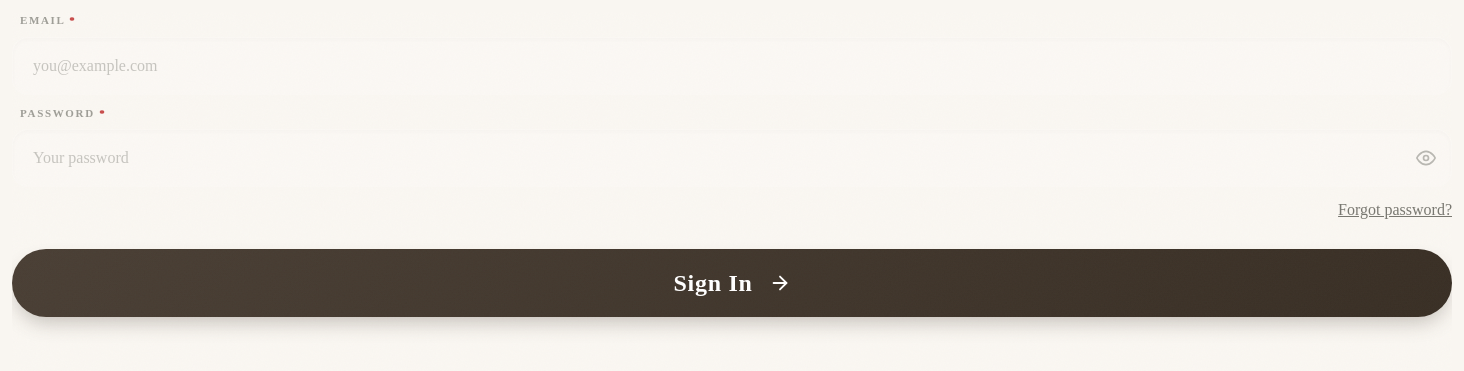
Test: LoginForm › shows "Invalid email or password." inline and clears password on Invalid credentials
Type "jane@example.com" into the field with placeholder "you@example.com". click: [732, 66]
box: [12,36,1452,94]
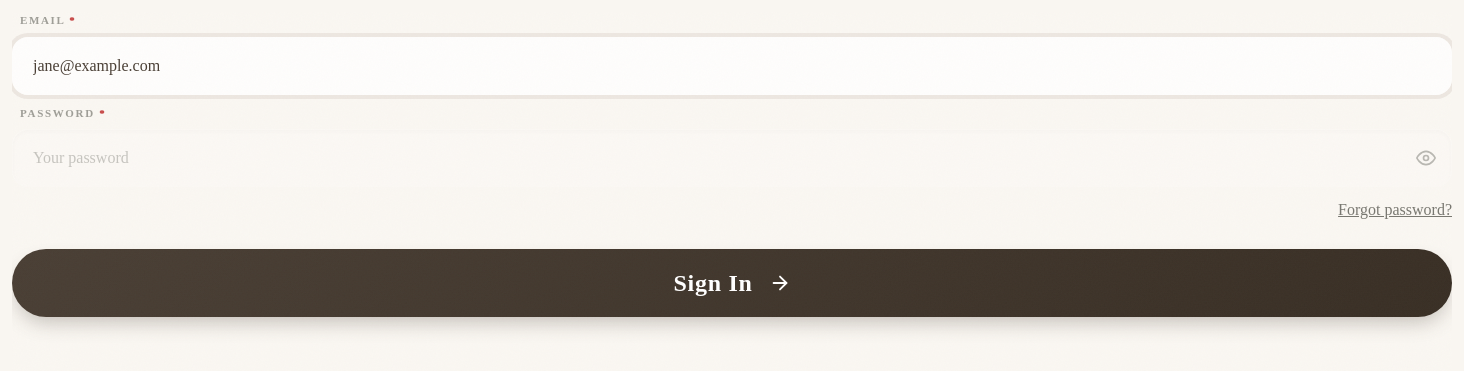
Type "WrongPass1" into the password field with placeholder "Your password". click: [732, 158]
box: [12,129,1452,187]
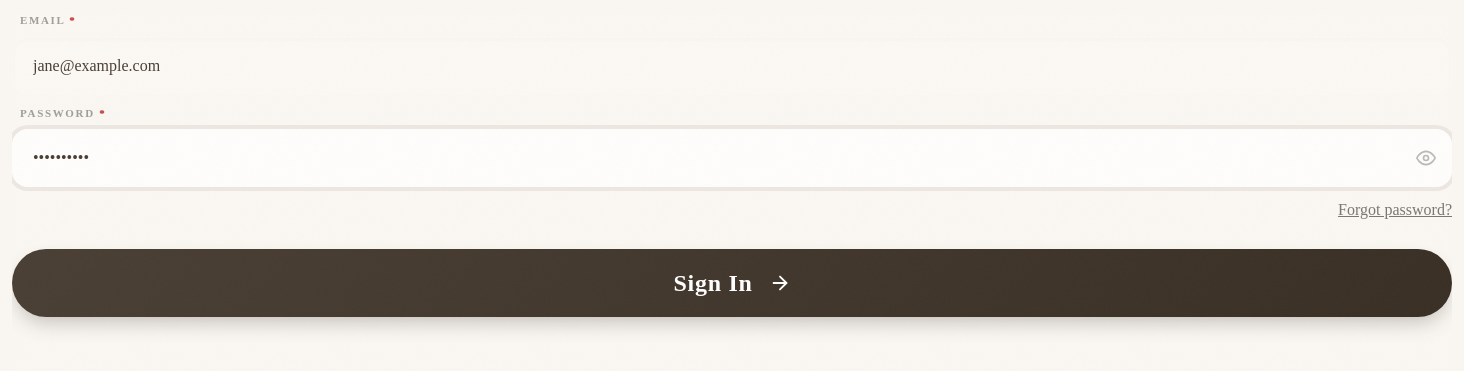
Click the button "Sign In". click: [732, 283]
box: [12,249,1452,317]
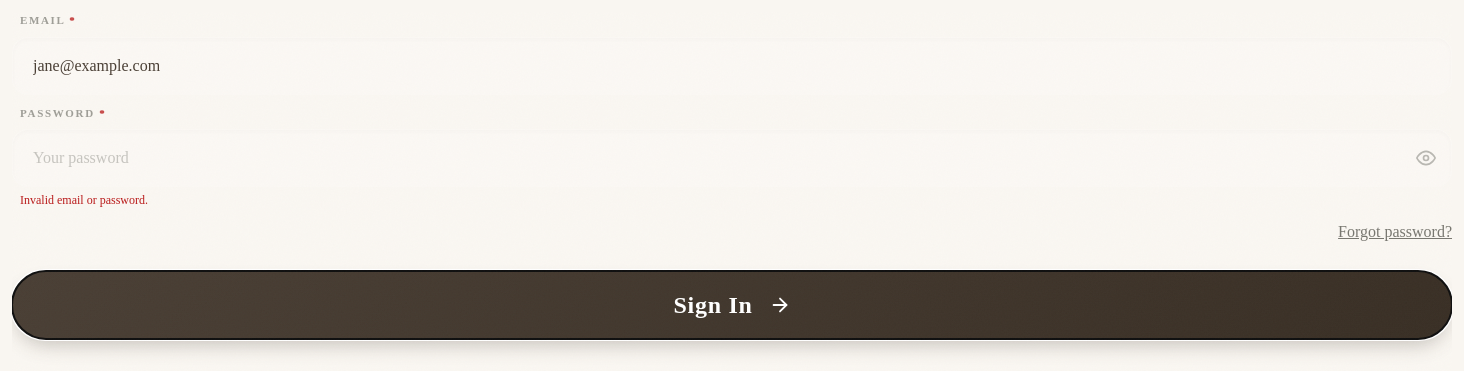
Expected: the message reads "Invalid email or password.", [20,193,148,207]
Expected: the password field with placeholder "Your password" is empty, [12,129,1452,187]
